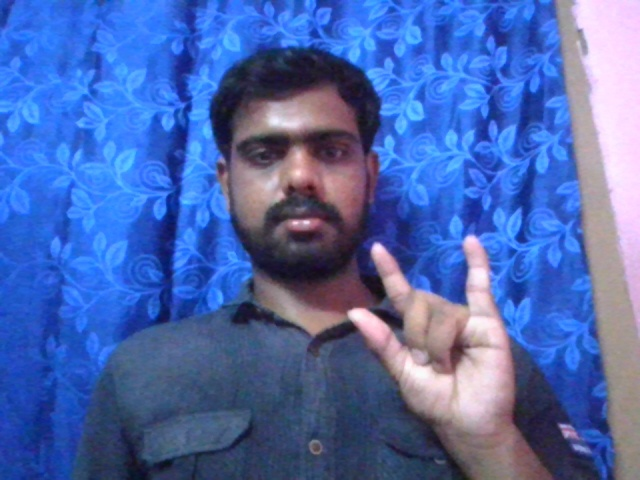IloveYou: (342, 230, 523, 430)
